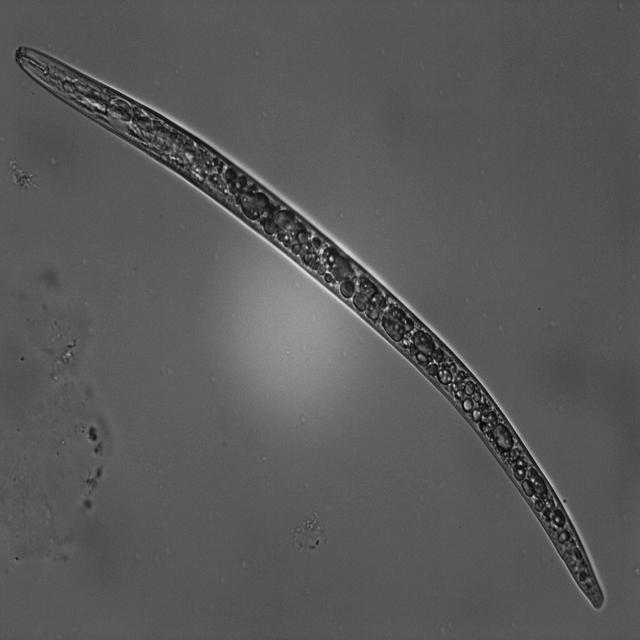Pratylenchus: (21, 41, 612, 615)
